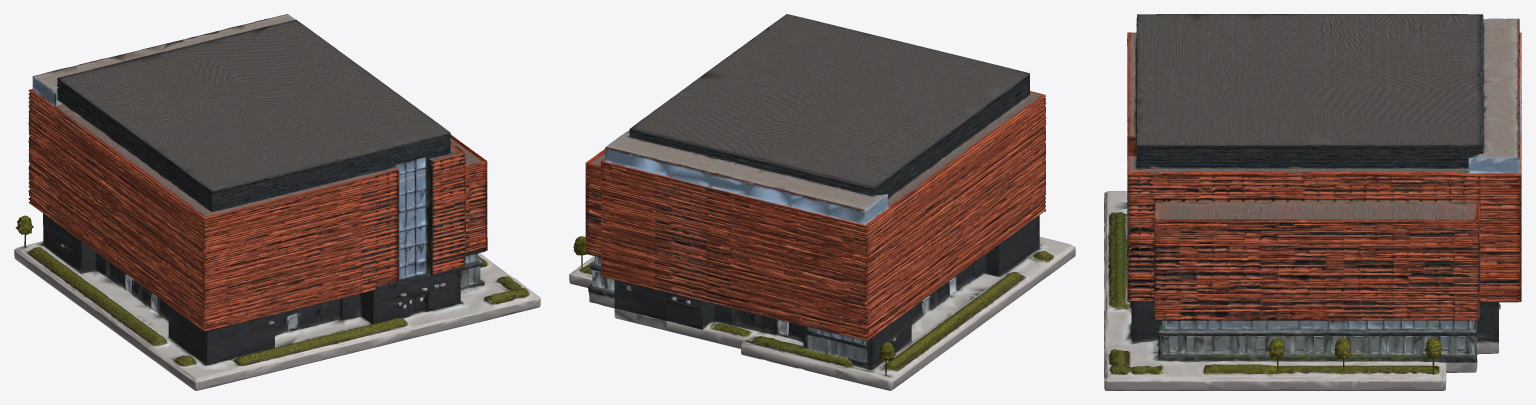
Rendered from b8-datacenter.glb.
3 renders of one model, left to right at view 1: azimuth 30°, elevation 25°; view 2: azimuth 150°, elevation 25°; view 3: azimuth 270°, elevation 25°, orthographic. The views are drawn at different scales.
Parts seen in each view (by area): view 1: tripo_node_53d1d74c-2aa3-4152-9e3f-ef797b9d1b74; view 2: tripo_node_53d1d74c-2aa3-4152-9e3f-ef797b9d1b74; view 3: tripo_node_53d1d74c-2aa3-4152-9e3f-ef797b9d1b74.
Part boxes in pixels (left/top/right/bottom): tripo_node_53d1d74c-2aa3-4152-9e3f-ef797b9d1b74: left=14, top=14, right=540, bottom=390; tripo_node_53d1d74c-2aa3-4152-9e3f-ef797b9d1b74: left=569, top=14, right=1075, bottom=390; tripo_node_53d1d74c-2aa3-4152-9e3f-ef797b9d1b74: left=1104, top=14, right=1521, bottom=390.
Size of the model in its own units: 0.9663 by 0.4904 by 0.9008.
1 material, 1 textured.
